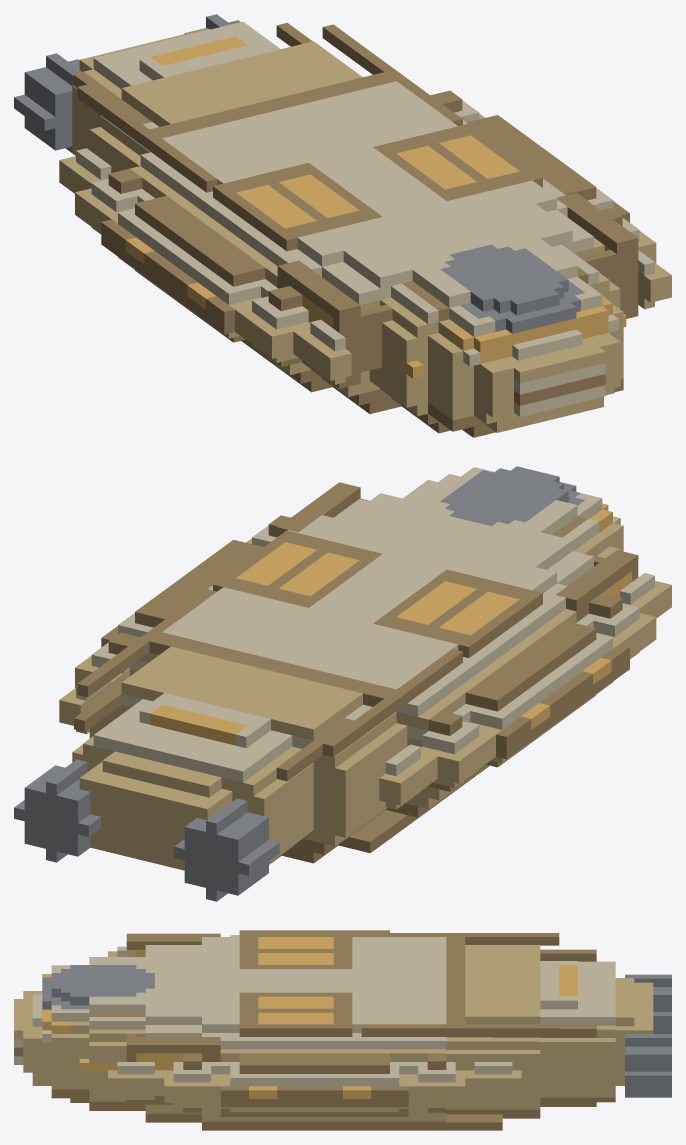
The model's file is hull.glb.
3 views of the same model, one above another, from view 1: azimuth 30°, elevation 25°; view 2: azimuth 150°, elevation 25°; view 3: azimuth 270°, elevation 25° (orthographic). The views are drawn at different scales.
Bounding box in the file's own units: 38 × 12 × 70.
